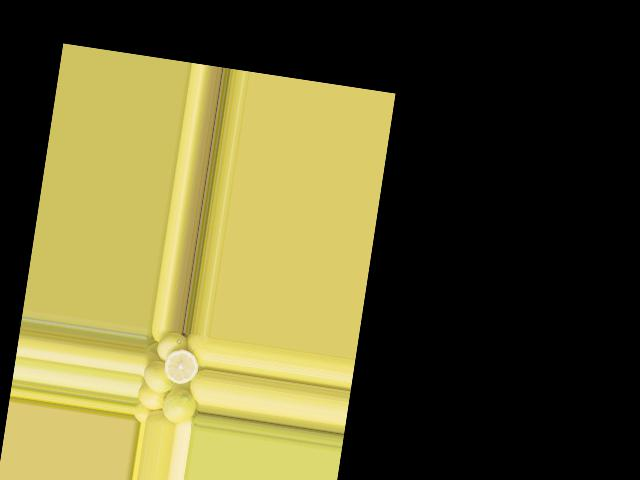lemon: (156, 331, 186, 360)
